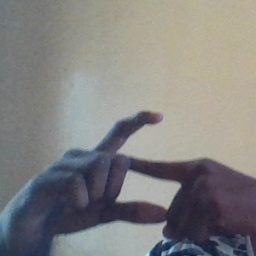E: (87, 109, 188, 228)
